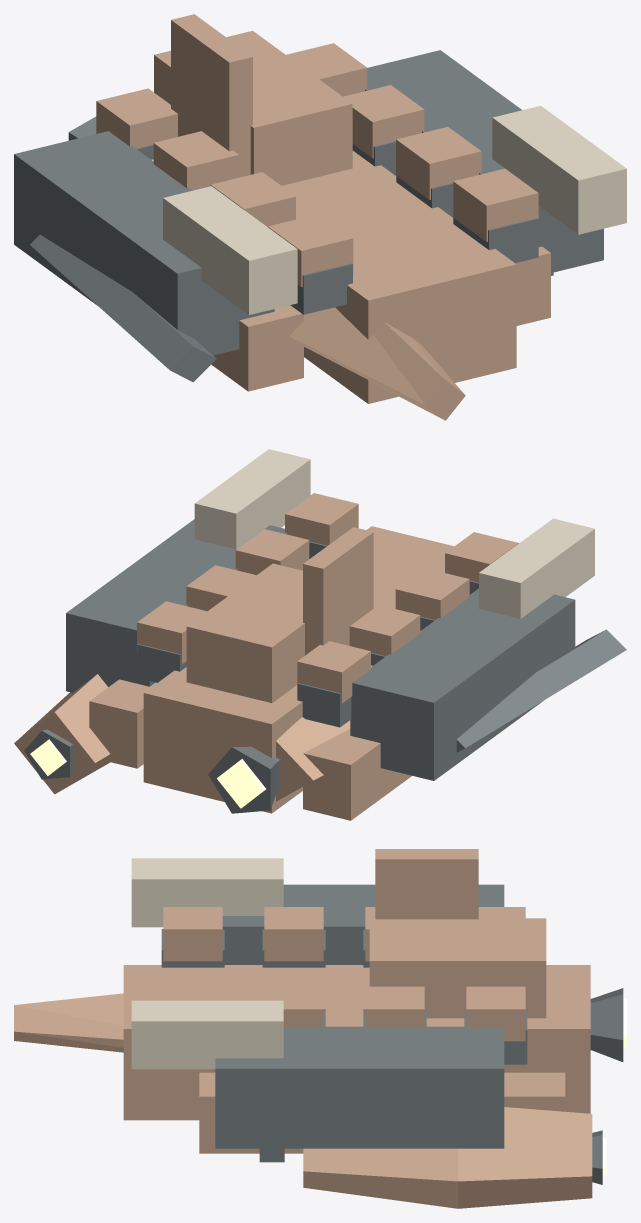
3 views of the same model, one above another, from view 1: azimuth 30°, elevation 25°; view 2: azimuth 150°, elevation 25°; view 3: azimuth 270°, elevation 25° (orthographic). The views are drawn at different scales.
Bounding box in the file's own units: 15.6 × 8.86 × 19.44.
